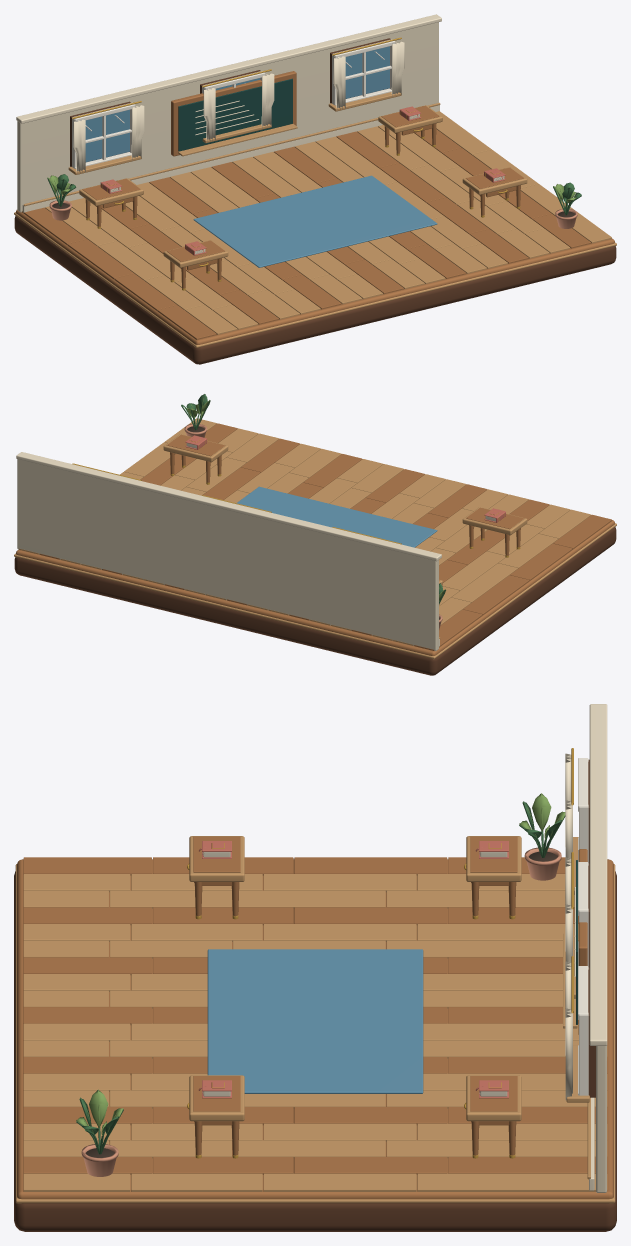
Rendered from school.glb.
The picture shows the model from 3 angles, top to bottom: view 1: azimuth 30°, elevation 25°; view 2: azimuth 150°, elevation 25°; view 3: azimuth 270°, elevation 25°; orthographic projection. The views are drawn at different scales.
Parts seen in each view (by area): view 1: Crafted_wood_light, Crafted_wood, Crafted_plaster, Crafted_blue, Crafted_edge, Crafted_cream, Crafted_dark, Crafted_white, Crafted_brass, Crafted_coral, Crafted_leaf, Crafted_ceramic; view 2: Crafted_plaster, Crafted_wood_light, Crafted_wood, Crafted_edge, Crafted_blue, Crafted_cream, Crafted_brass, Crafted_leaf, Crafted_coral; view 3: Crafted_wood_light, Crafted_wood, Crafted_blue, Crafted_edge, Crafted_cream, Crafted_white, Crafted_coral, Crafted_plaster, Crafted_ceramic, Crafted_lightleaf, Crafted_leaf, Crafted_brass.
Boxes of the visible parts, <box> form: Crafted_wood_light: <box>14,92,616,347</box>; Crafted_wood: <box>16,71,614,344</box>; Crafted_plaster: <box>17,22,438,212</box>; Crafted_blue: <box>85,46,437,267</box>; Crafted_edge: <box>14,38,616,364</box>; Crafted_cream: <box>16,14,441,212</box>; Crafted_dark: <box>178,78,292,151</box>; Crafted_white: <box>72,39,395,168</box>; Crafted_brass: <box>72,37,520,290</box>; Crafted_coral: <box>100,106,505,255</box>; Crafted_leaf: <box>47,174,581,215</box>; Crafted_ceramic: <box>49,200,577,228</box>; Crafted_plaster: <box>17,459,438,651</box>; Crafted_wood_light: <box>14,418,616,659</box>; Crafted_wood: <box>16,423,614,655</box>; Crafted_edge: <box>14,527,616,675</box>; Crafted_blue: <box>236,486,437,547</box>; Crafted_cream: <box>16,452,441,646</box>; Crafted_brass: <box>72,439,520,557</box>; Crafted_leaf: <box>181,394,445,604</box>; Crafted_coral: <box>185,435,505,522</box>; Crafted_wood_light: <box>15,836,615,1203</box>; Crafted_wood: <box>17,836,613,1199</box>; Crafted_blue: <box>207,949,423,1093</box>; Crafted_edge: <box>14,759,616,1231</box>; Crafted_cream: <box>565,704,607,1190</box>; Crafted_white: <box>578,758,588,1095</box>; Crafted_coral: <box>198,841,508,1098</box>; Crafted_plaster: <box>596,1045,606,1192</box>; Crafted_ceramic: <box>81,847,561,1176</box>; Crafted_lightleaf: <box>76,793,565,1135</box>; Crafted_leaf: <box>76,794,565,1154</box>; Crafted_brass: <box>187,748,573,1158</box>.
Bounding box in the file's own units: 13 × 3.49 × 9.8.
